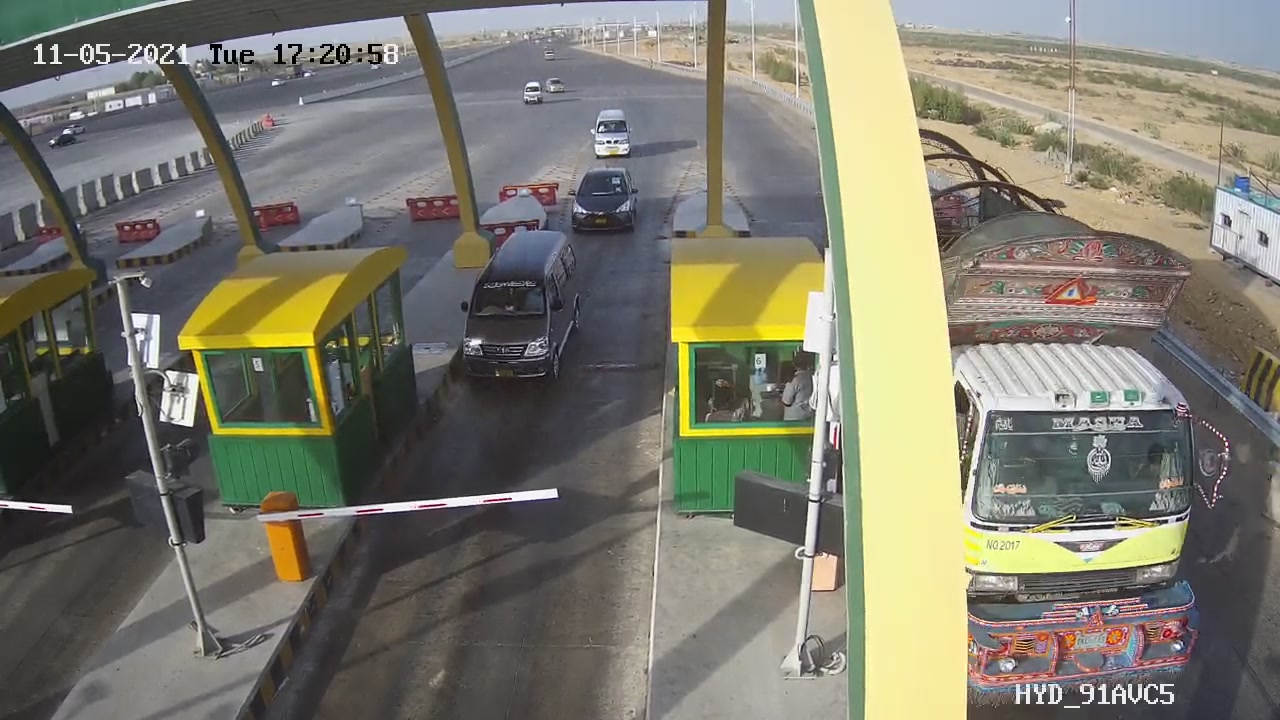F2: (446, 218, 601, 400)
